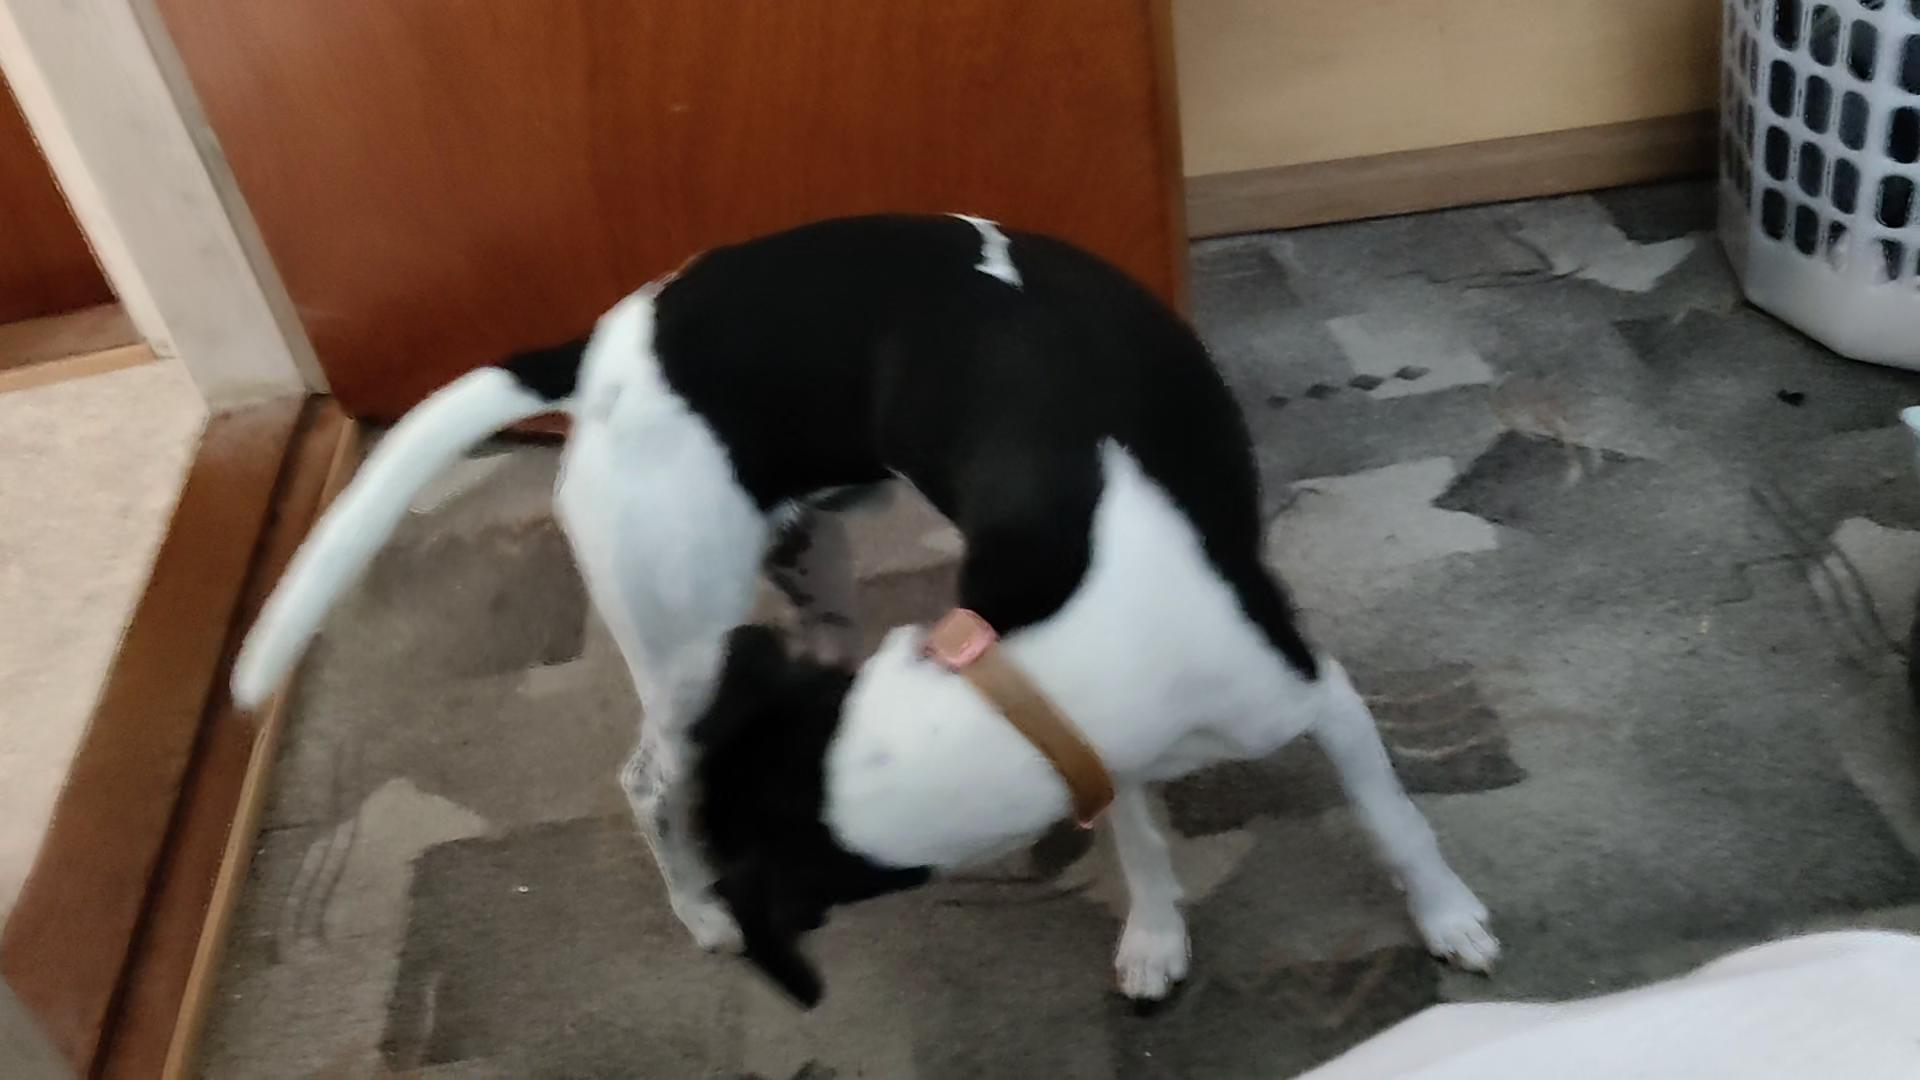Dog: (206, 196, 1536, 1015)
